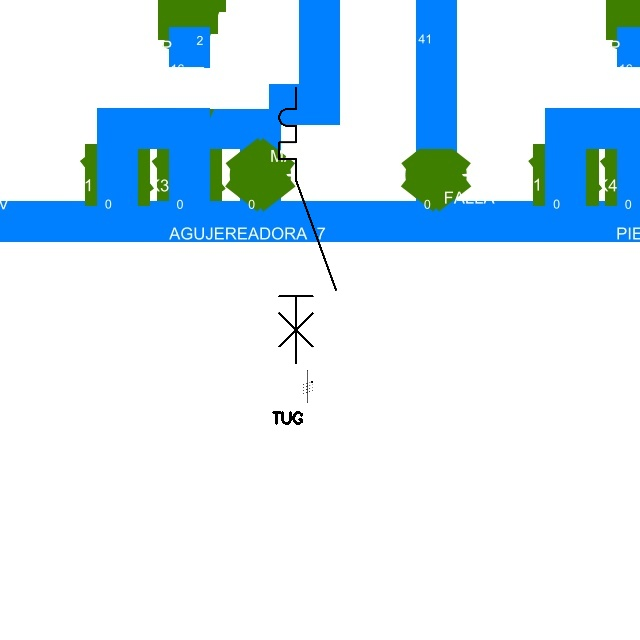interruptor_termomagnetico: (272, 81, 342, 370)
